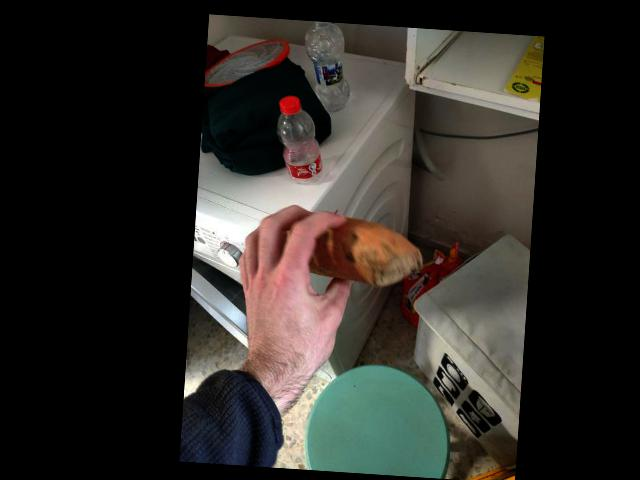sweet_potato: (287, 218, 390, 299)
